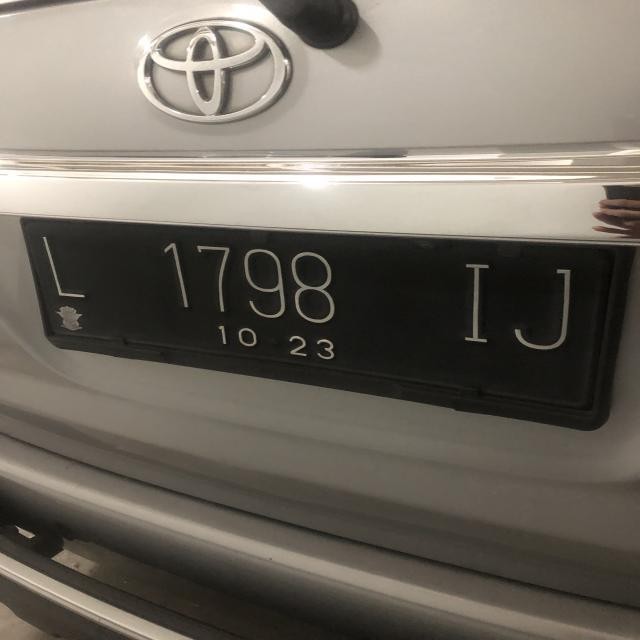1: (156, 237, 196, 316)
7: (195, 242, 235, 316)
8: (288, 248, 344, 322)
9: (240, 250, 291, 320)
I: (447, 252, 503, 352)
J: (507, 260, 583, 359)
L: (38, 230, 96, 303)
